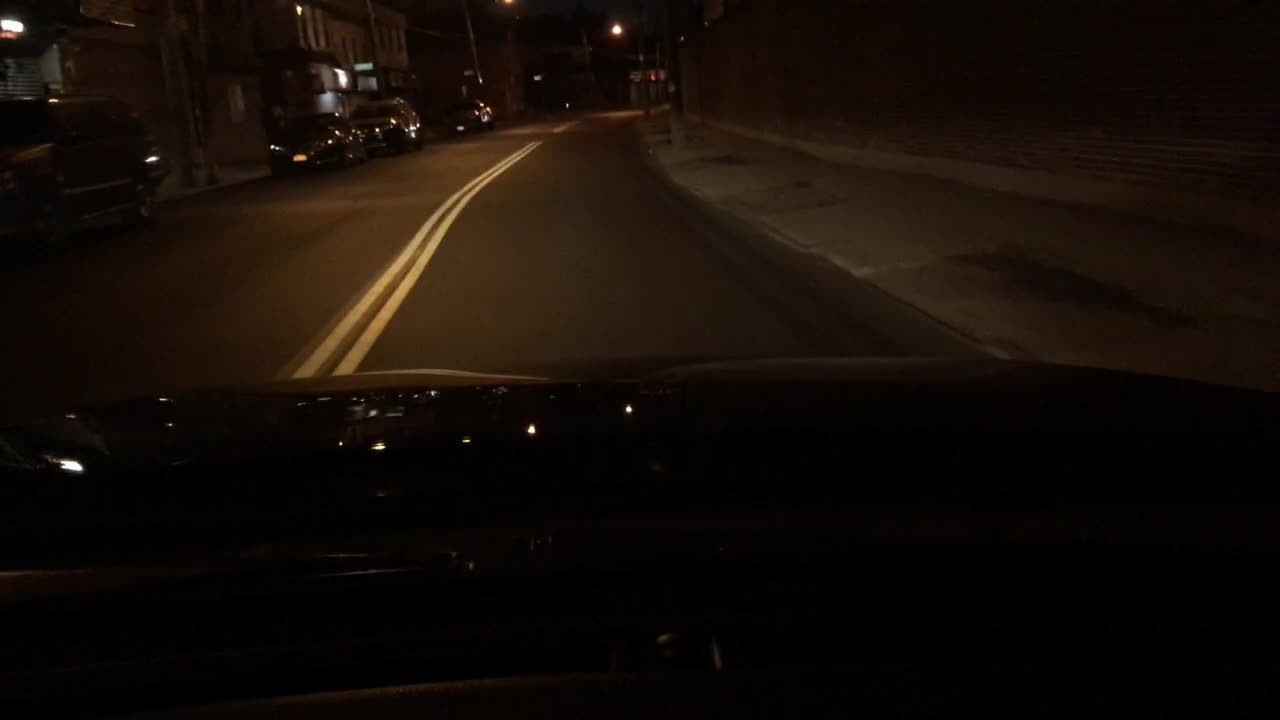car: (0, 89, 168, 245), (267, 110, 365, 175), (342, 95, 420, 158), (438, 96, 493, 136)
